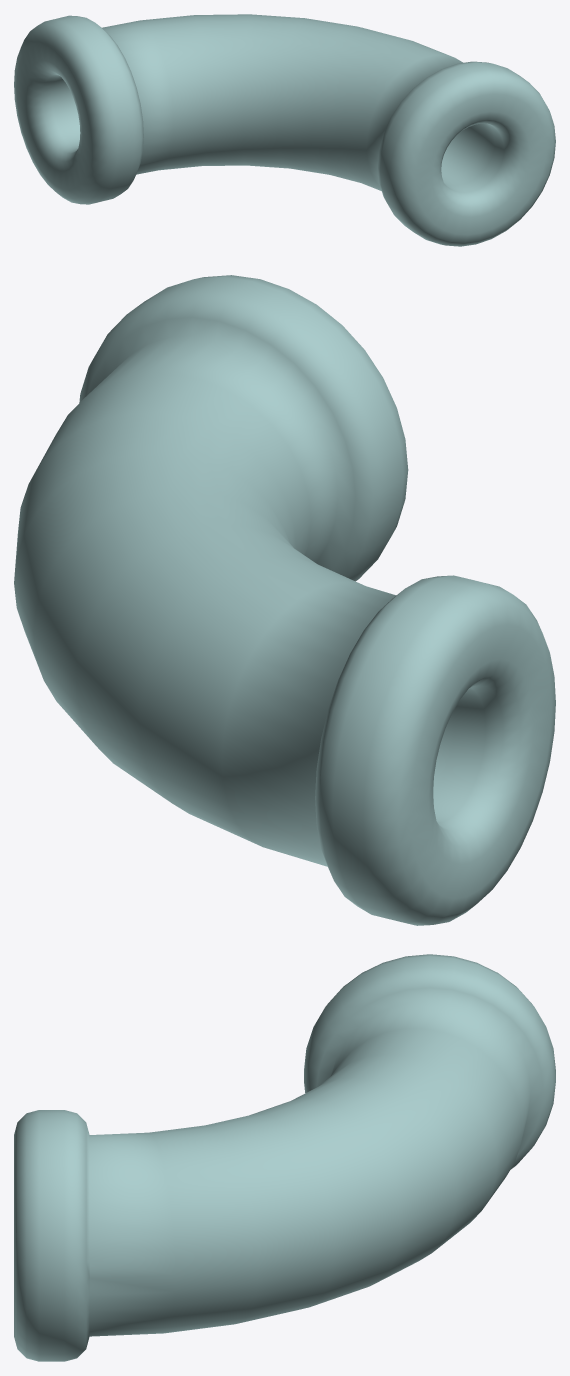
Rendered from LastLuna_Model_Station_Pipe_Curve.fbx.
3 views of the same model, one above another, from view 1: azimuth 30°, elevation 25°; view 2: azimuth 150°, elevation 25°; view 3: azimuth 270°, elevation 25° (orthographic). The views are drawn at different scales.
Visible parts, largest first — view 1: Pipe001; view 2: Pipe001; view 3: Pipe001.
Part boxes in pixels (left/top/right/bottom): Pipe001: left=14, top=14, right=555, bottom=246; Pipe001: left=14, top=275, right=555, bottom=925; Pipe001: left=14, top=954, right=555, bottom=1361.
Size of the model in its own units: 53.75 by 25 by 53.75.
